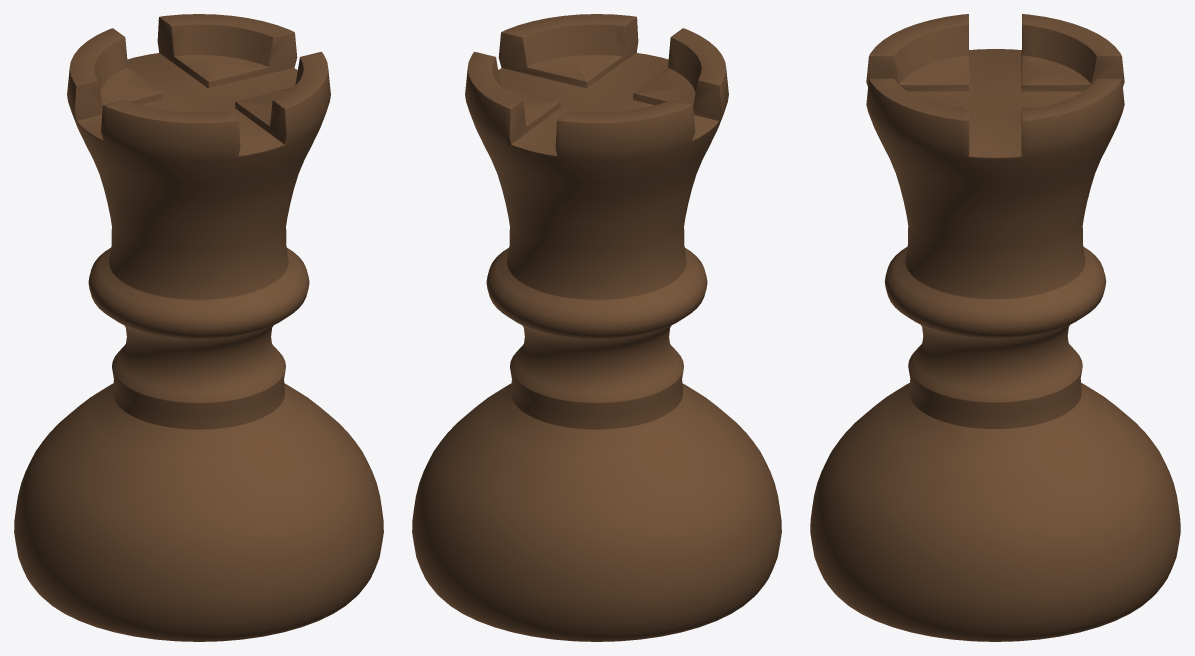
The model's file is black-rook.glb.
3 views of the same model, side by side, from view 1: azimuth 30°, elevation 25°; view 2: azimuth 150°, elevation 25°; view 3: azimuth 270°, elevation 25° (orthographic).
Parts seen in each view (by area): view 1: black-rook.001; view 2: black-rook.001; view 3: black-rook.001.
Boxes of the visible parts, x1,y1,x2,y2 form: black-rook.001: [14, 14, 383, 641]; black-rook.001: [412, 14, 781, 641]; black-rook.001: [810, 14, 1180, 641].
Size of the model in its own units: 0.7004 by 1.05 by 0.7004.
